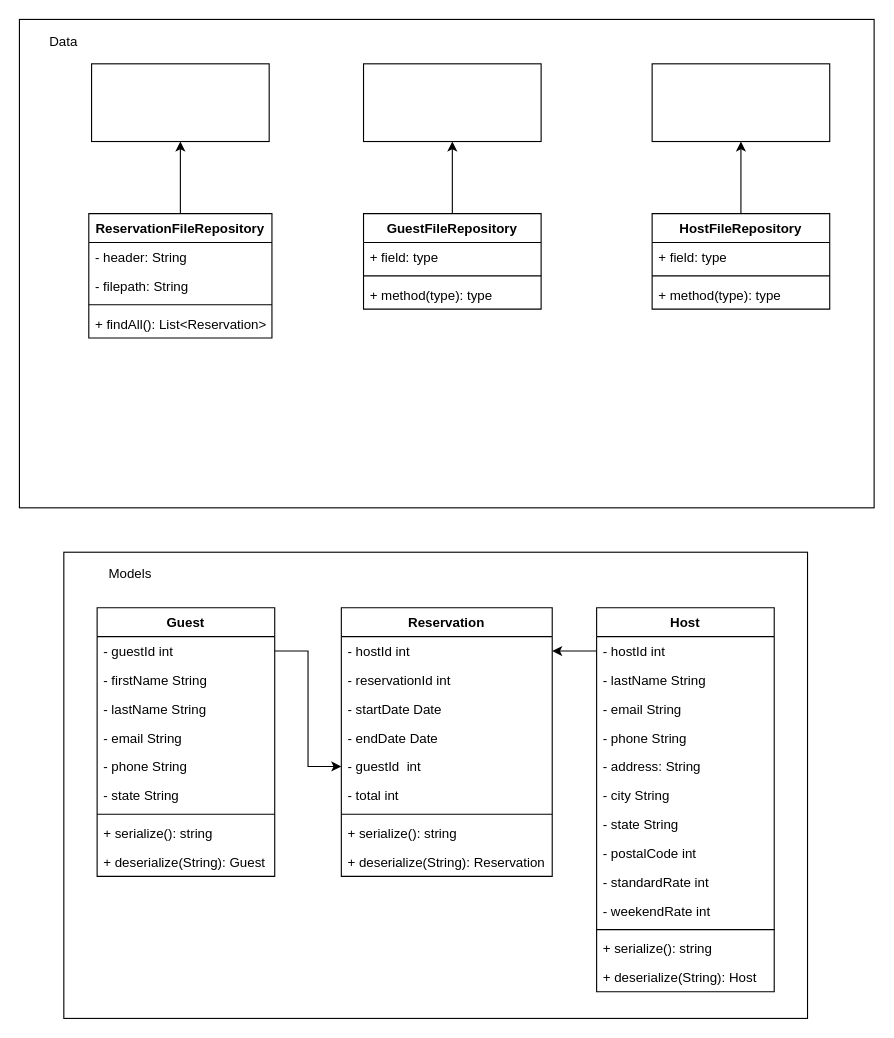
Image size: 894x1038. Some labels were removed from this diagram. Each missing label, with the centre of its shape:
"«interface» GuestRepository" belongs at [451,102].
"«interface» HostRepository" belongs at [740,102].
"«interface» ReservationRepository" belongs at [179,102].
